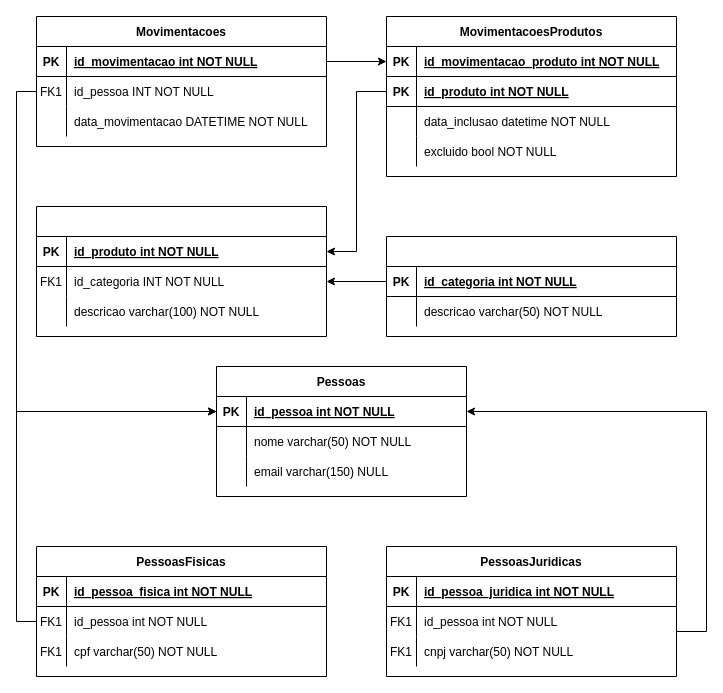
This 723x693 diagram has some shape labels left out. The shapes that lost their labels are listed below. From the top down, each one's box as (x1, y1, x2, y2) in pixels, then its label:
(36, 206, 326, 336): Produtos
(386, 236, 676, 336): Categorias
